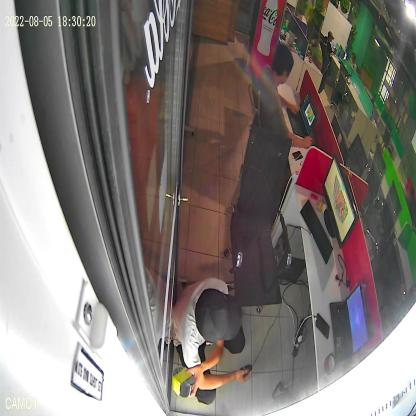yellow: (173, 366, 195, 398)
